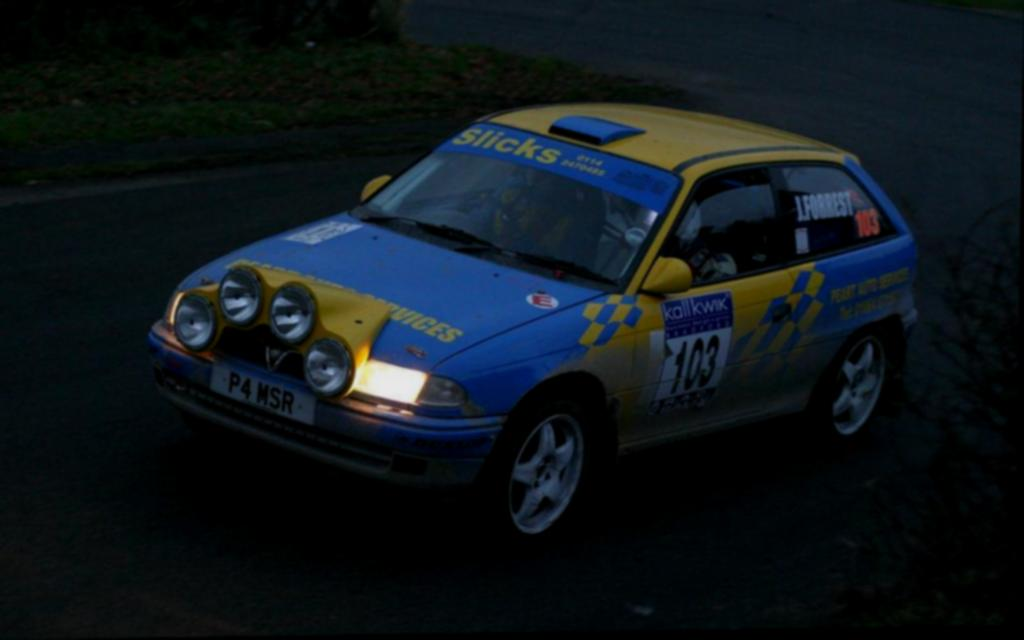License_Plate: (208, 361, 311, 423)
